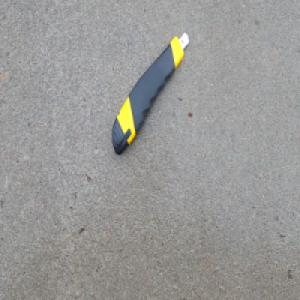Cutter: (112, 31, 190, 158)
